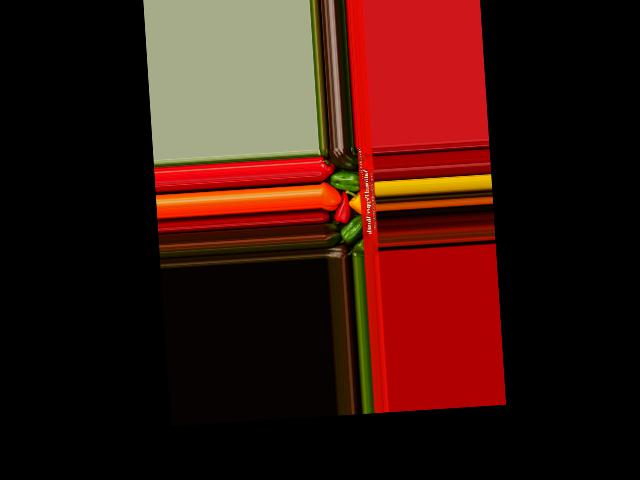bell_pepper: (329, 147, 358, 170)
